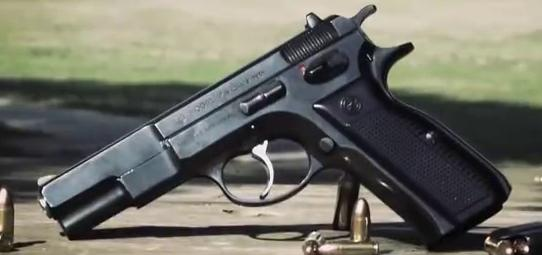gun: (1, 1, 542, 255)
